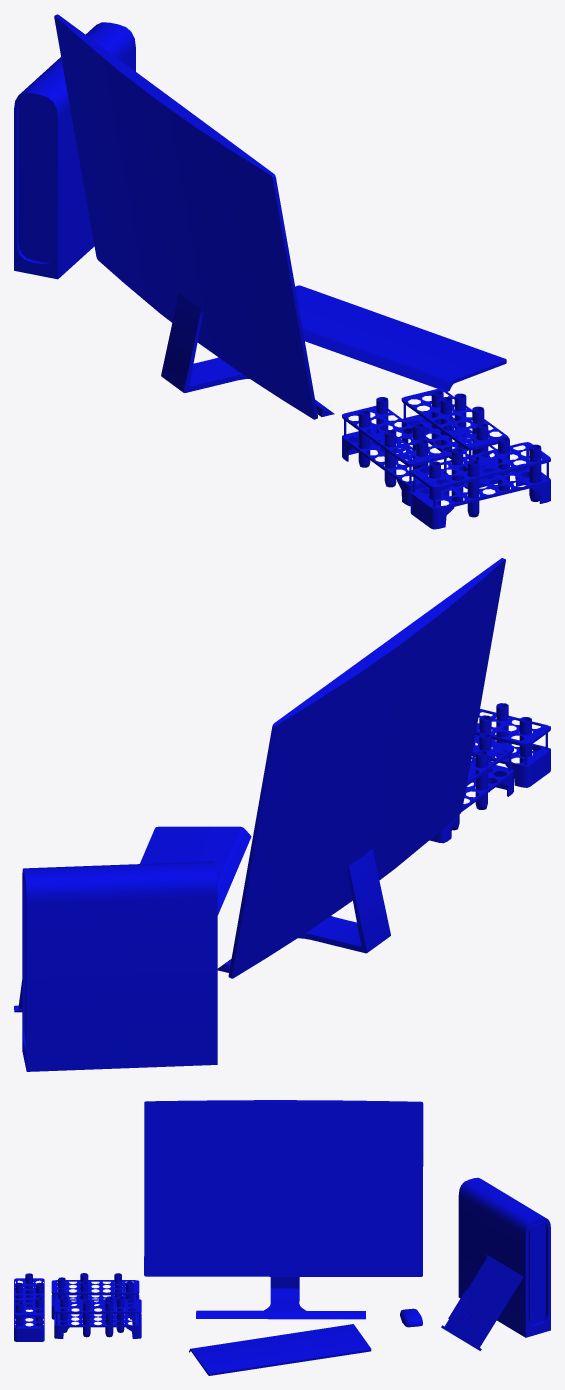
File: ClutterPile_4.FBX
3 views of the same model, one above another, from view 1: azimuth 30°, elevation 25°; view 2: azimuth 150°, elevation 25°; view 3: azimuth 270°, elevation 25° (orthographic). The views are drawn at different scales.
Visible parts, largest first — view 1: ClutterPile_4; view 2: ClutterPile_4; view 3: ClutterPile_4.
Boxes of the visible parts, x1=… form: ClutterPile_4: x1=14, y1=14, x2=550, y2=529; ClutterPile_4: x1=14, y1=558, x2=550, y2=1071; ClutterPile_4: x1=14, y1=1100, x2=550, y2=1375.
Bounding box in the file's own units: 12.17 × 11.71 × 30.53.
